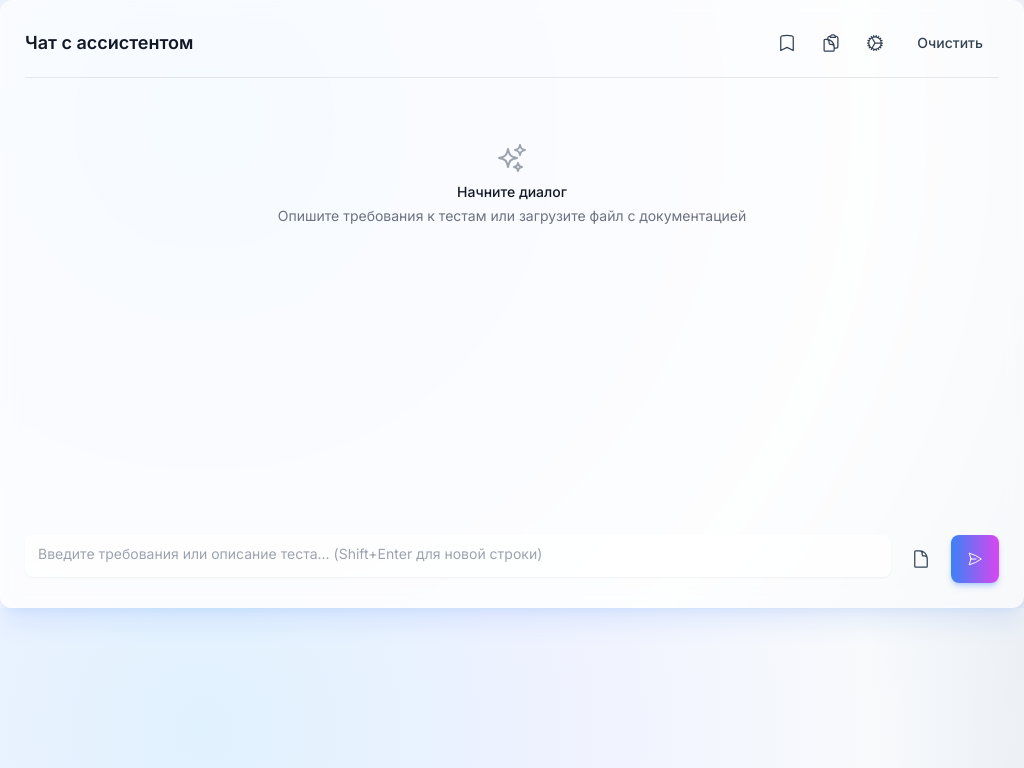
Scenario: Chat Page › validates empty message
Click the button named "отправить". click: (975, 559)
box: [951,535,999,583]
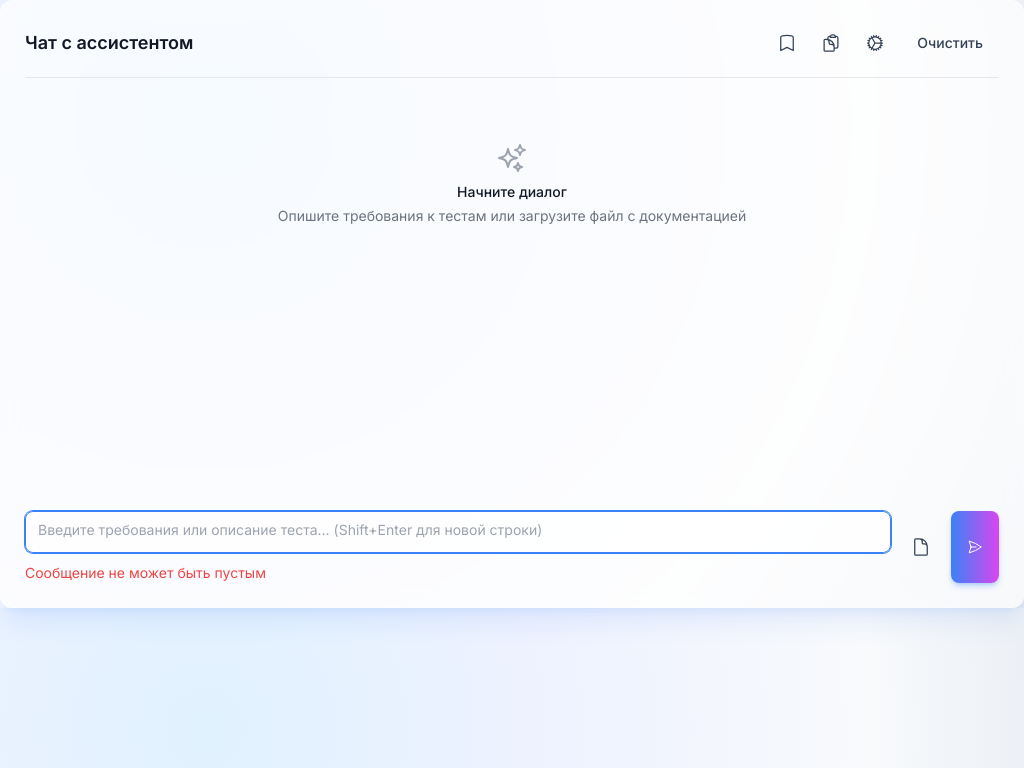
Result: the text "Сообщение не может быть пустым" is shown at [25,564,266,581]
